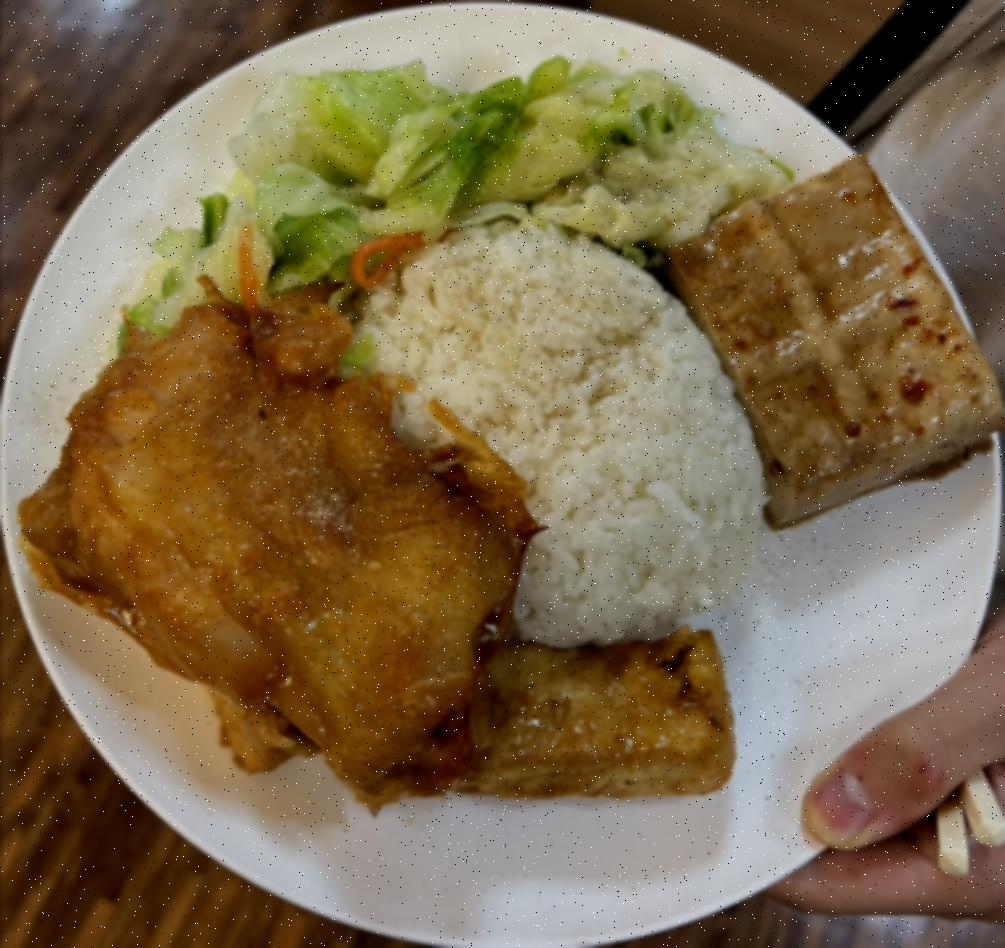grilled chicken leg steak: (20, 309, 526, 804)
plate: (4, 0, 1005, 948)
side dish: (139, 60, 762, 344), (658, 146, 1005, 524), (439, 623, 734, 807)
white rice: (340, 232, 765, 642)
